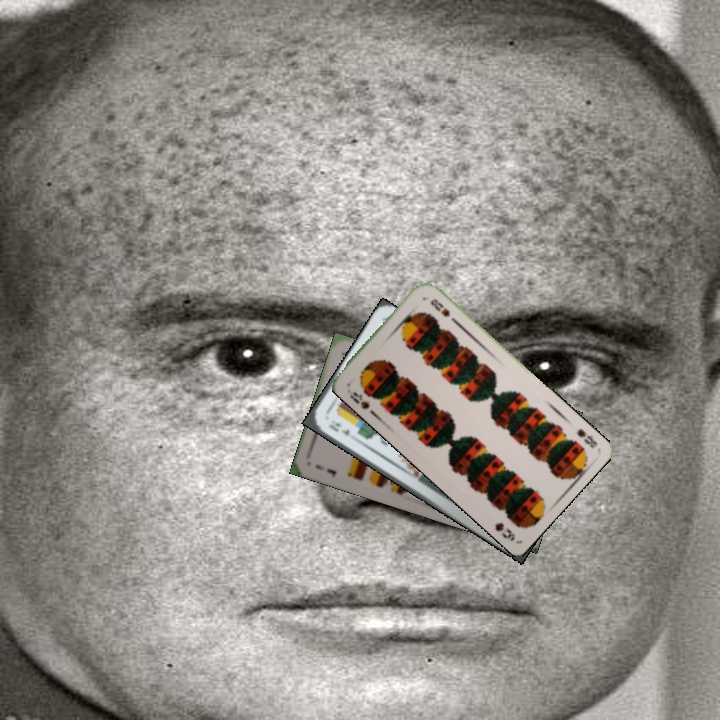E7: (312, 461, 339, 480)
EK: (324, 418, 358, 443)
S8: (572, 425, 600, 451), (346, 388, 372, 412)
